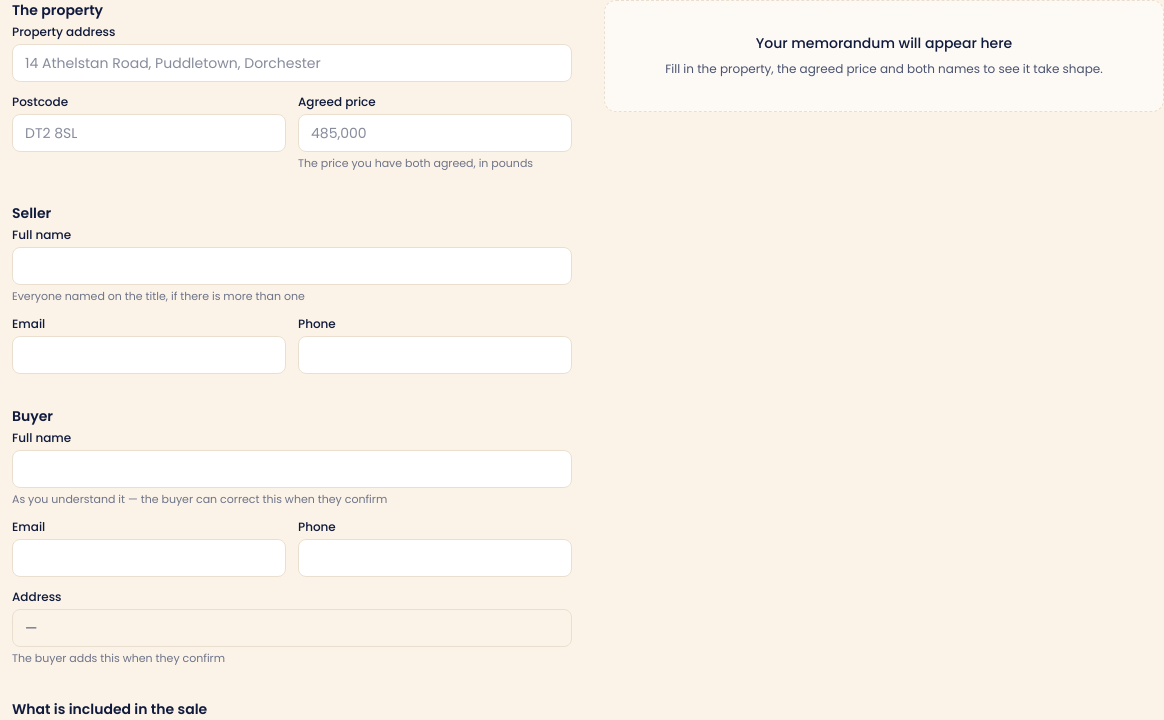
Test case: MemorandumBuilder › keeps the seller in charge of what is included
Type "14 Athelstan Road, Puddletown" into the field labelled "Property address" at (292, 63), box [12,44,572,82]
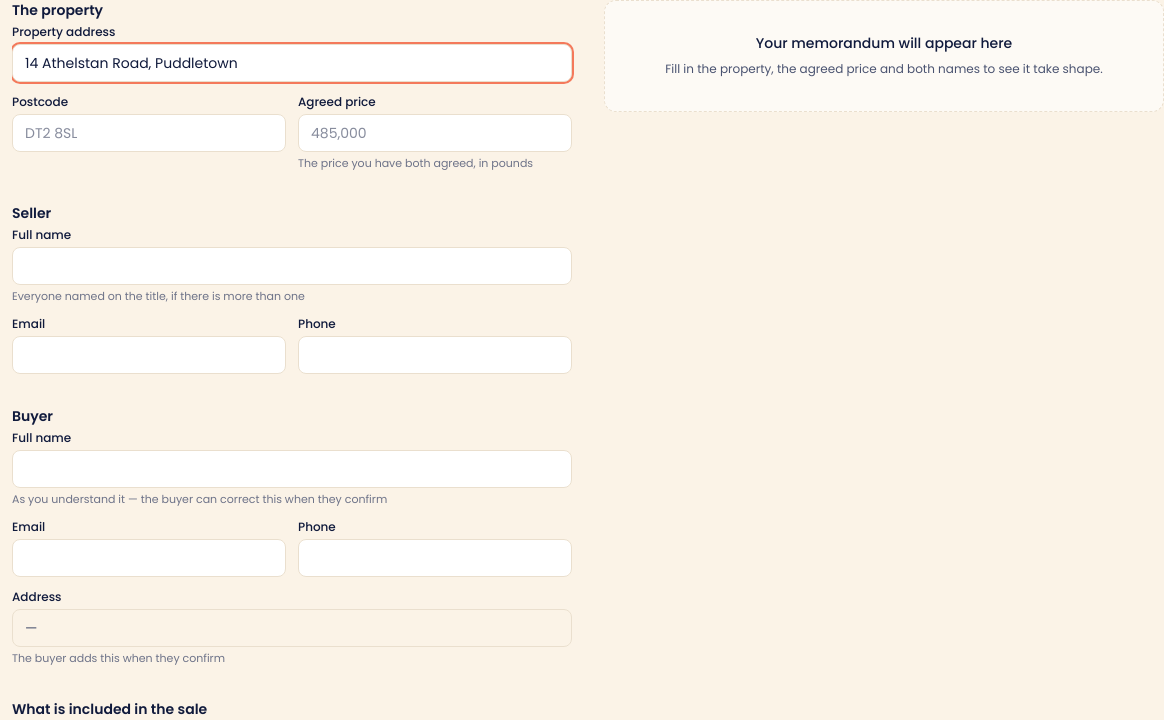
Type "485000" into the field labelled "Agreed price" at (435, 133), box [298,114,572,152]
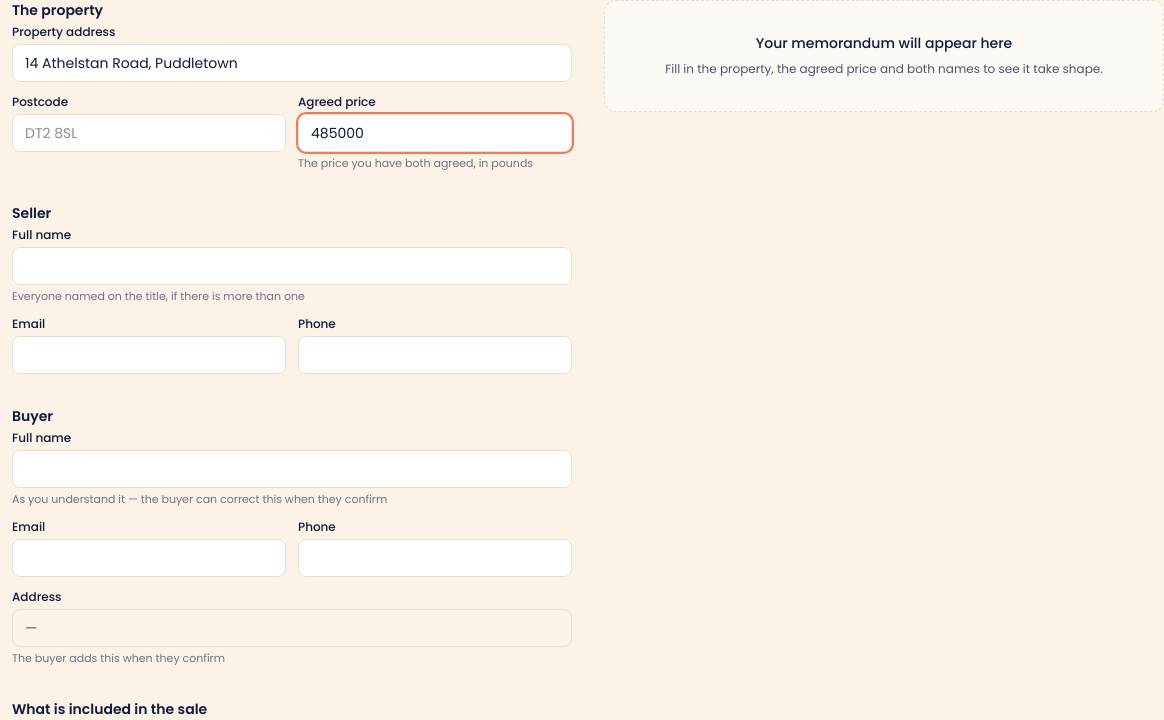
Type "William Boltwood" into the 1st field labelled "Full name" at (292, 266), box [12,247,572,285]
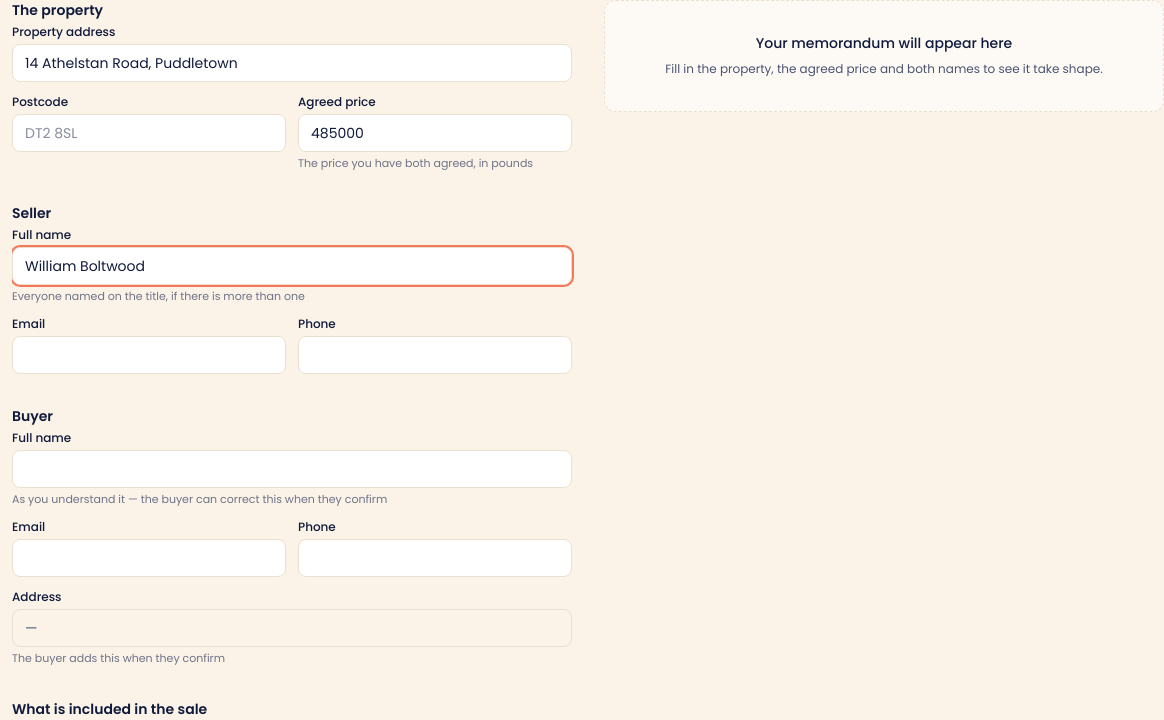
Type "James Law" into the 2nd field labelled "Full name" at (292, 469), box [12,450,572,488]
(page scrolled)
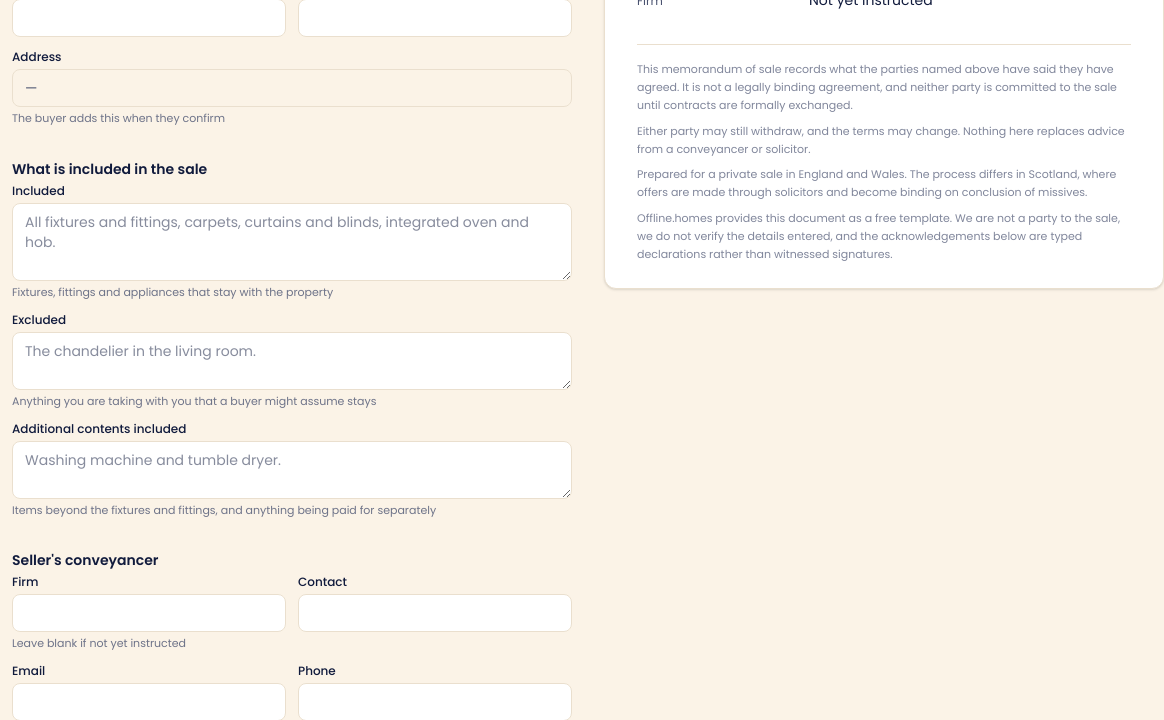
Type "The greenhouse and the water butt." into the text box labelled "Excluded" at (292, 361), box [12,332,572,390]
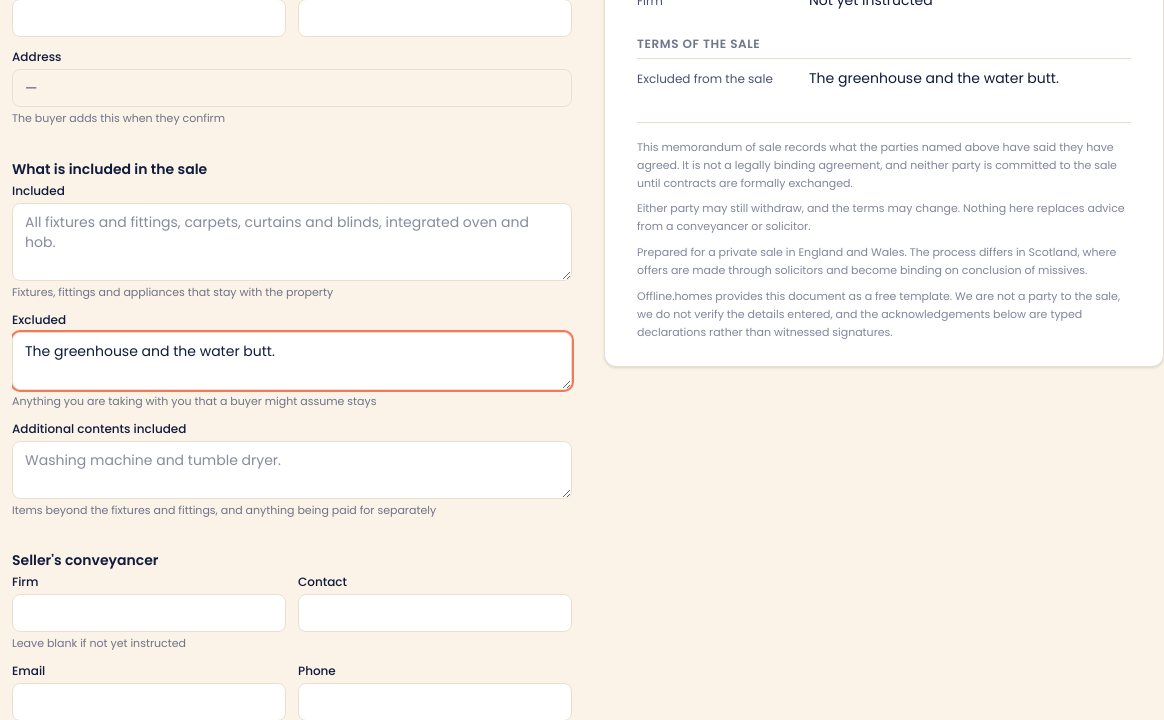
Result: the text "The greenhouse and the water butt." is shown at [809,68,1059,88]
Result: the text "Excluded from the sale" is shown at [637,70,773,87]
